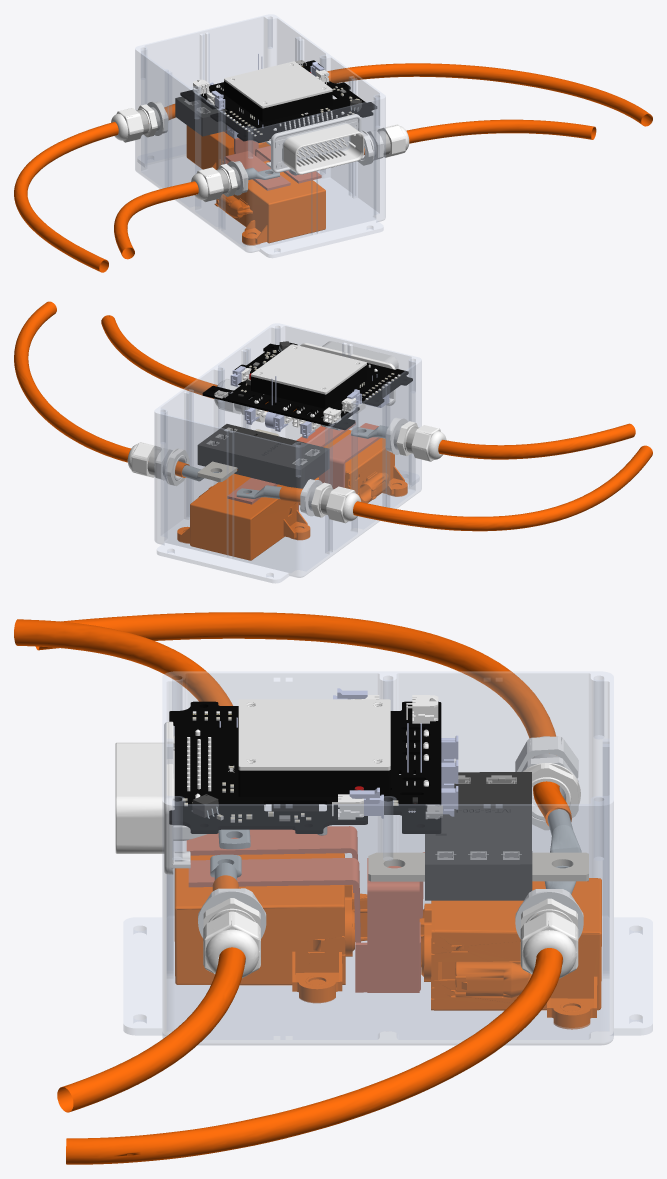
The model's file is master_assembly.glb.
3 renders of one model, top to bottom at view 1: azimuth 30°, elevation 25°; view 2: azimuth 150°, elevation 25°; view 3: azimuth 270°, elevation 25°, orthographic. The views are drawn at different scales.
Parts seen in each view (by area): view 1: 0430250200-1; view 2: 0430250200-1; view 3: 0430250200-1.
Boxes of the visible parts, x1,y1,x2,y2 form: 0430250200-1: [14, 14, 652, 272]; 0430250200-1: [14, 301, 652, 583]; 0430250200-1: [14, 612, 652, 1164].
Size of the model in its own units: 0.4934 by 0.1103 by 0.2433.
